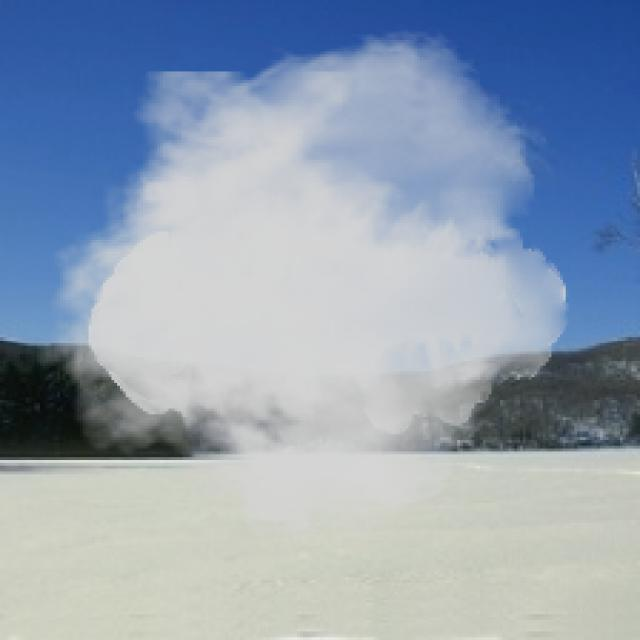smoke: (34, 26, 569, 548)
